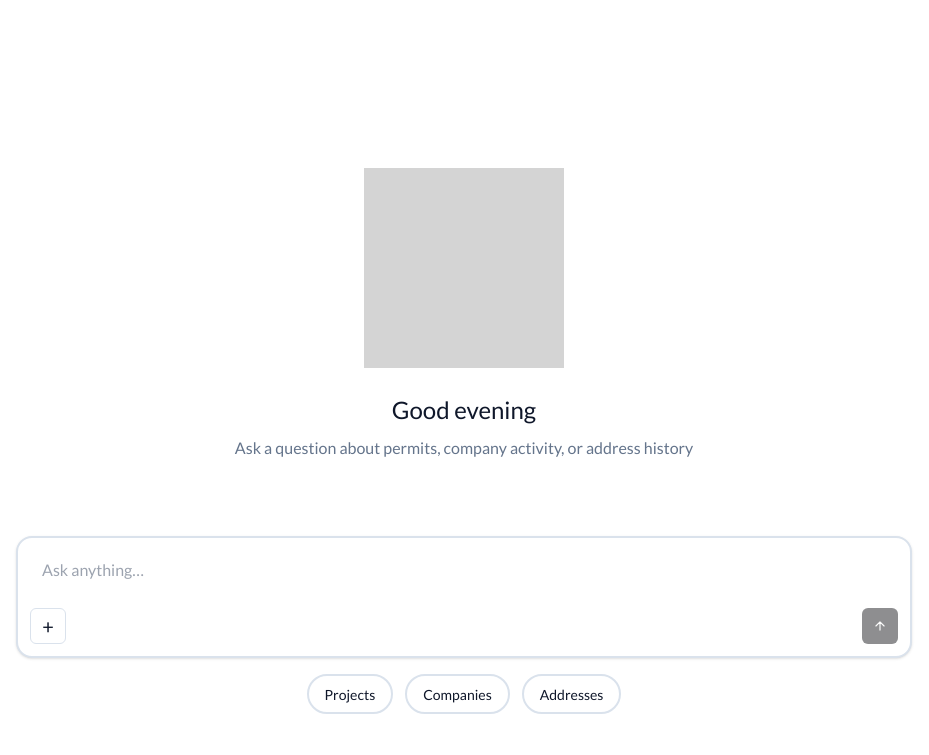
Scenario: ChatWindow › shows presets when scope button is clicked
Expected: the text box named "Chat message input" is shown, [30,550,898,594]
Expected: the text "Show permits issued in the last 30 days" is not shown
// Click a scope button to show presets
Click the button "Projects": (350, 694) [306,674,393,714]
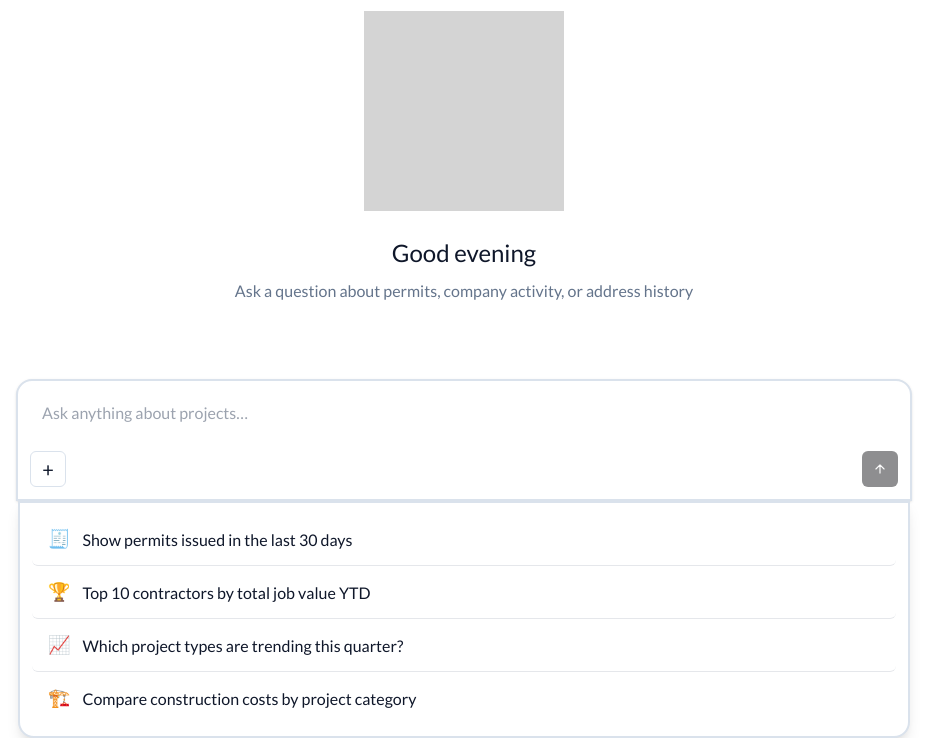
Expected: the text "Show permits issued in the last 30 days" is shown, [82,530,352,549]
Expected: the text "Top 10 contractors by total job value YTD" is shown, [82,583,370,602]
Expected: the text "Which project types are trending this quarter?" is shown, [82,636,403,655]
